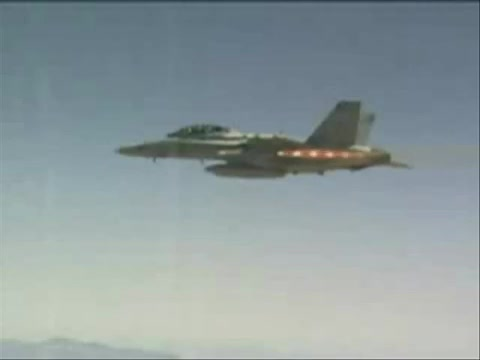aeroplane: (116, 99, 415, 181)
